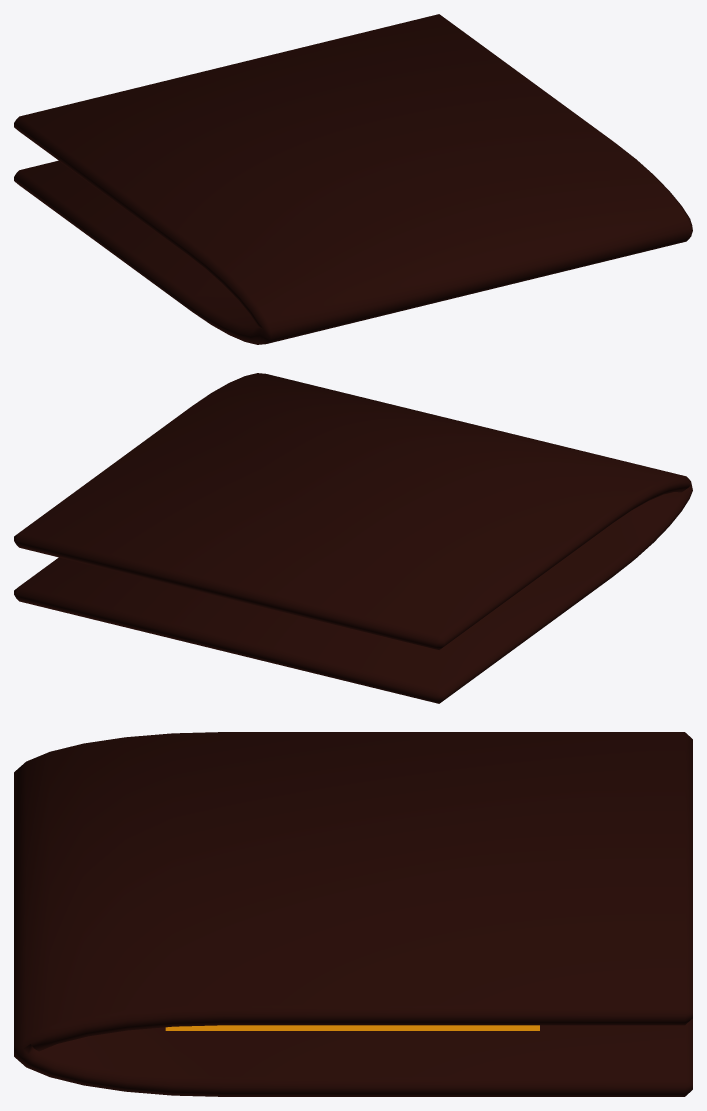
File: Wallet.glb
The picture shows the model from 3 angles, top to bottom: view 1: azimuth 30°, elevation 25°; view 2: azimuth 150°, elevation 25°; view 3: azimuth 270°, elevation 25°; orthographic projection. The views are drawn at different scales.
Visible parts, largest first — view 1: Plane; view 2: Plane; view 3: Plane, Plane.002.
Boxes of the visible parts, x1,y1,x2,y2 form: Plane: (14,14,692,344); Plane: (14,373,692,703); Plane: (14,732,692,1096); Plane.002: (165,1025,539,1030).
Size of the model in its own units: 0.15 by 0.0229 by 0.1538.
